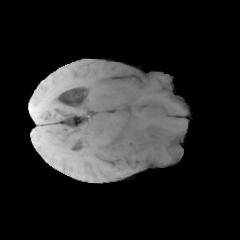glioma: (96, 106, 185, 169)
